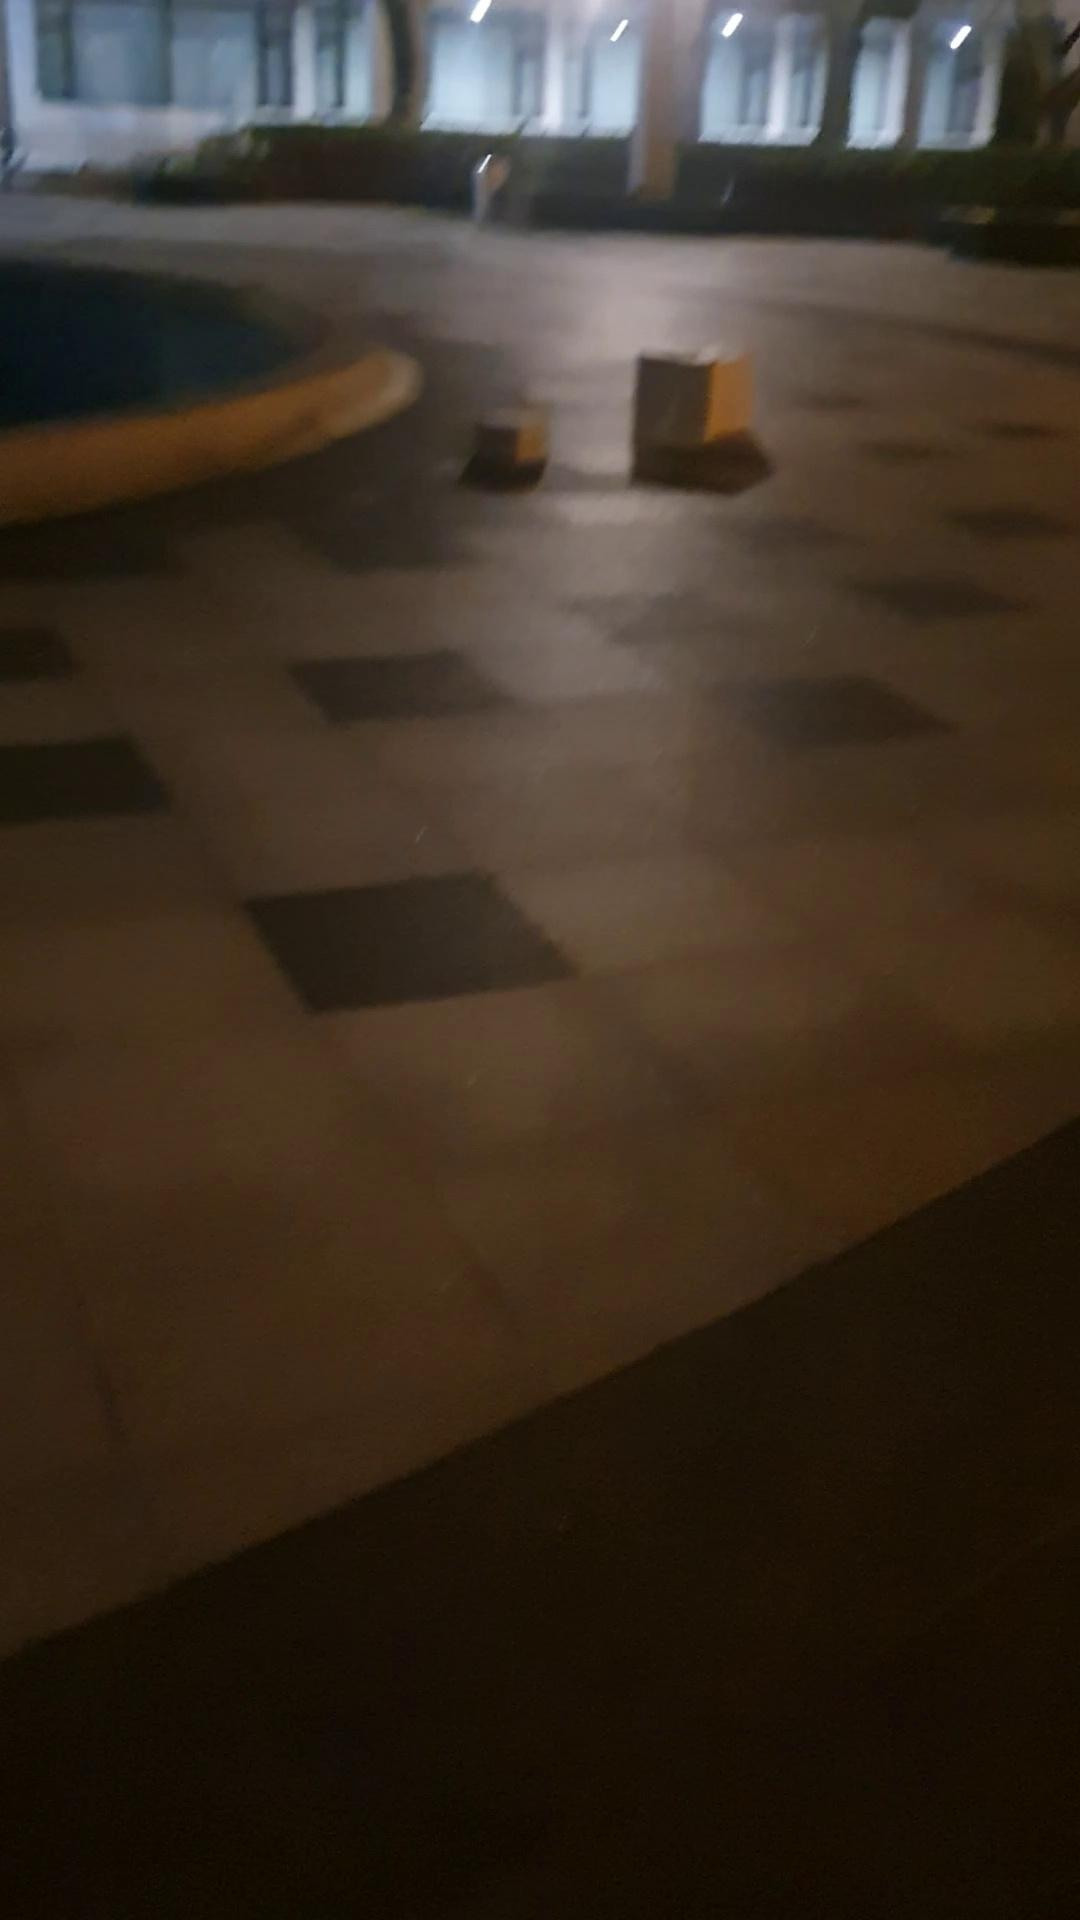Box: (621, 334, 757, 468), (458, 413, 580, 468)
